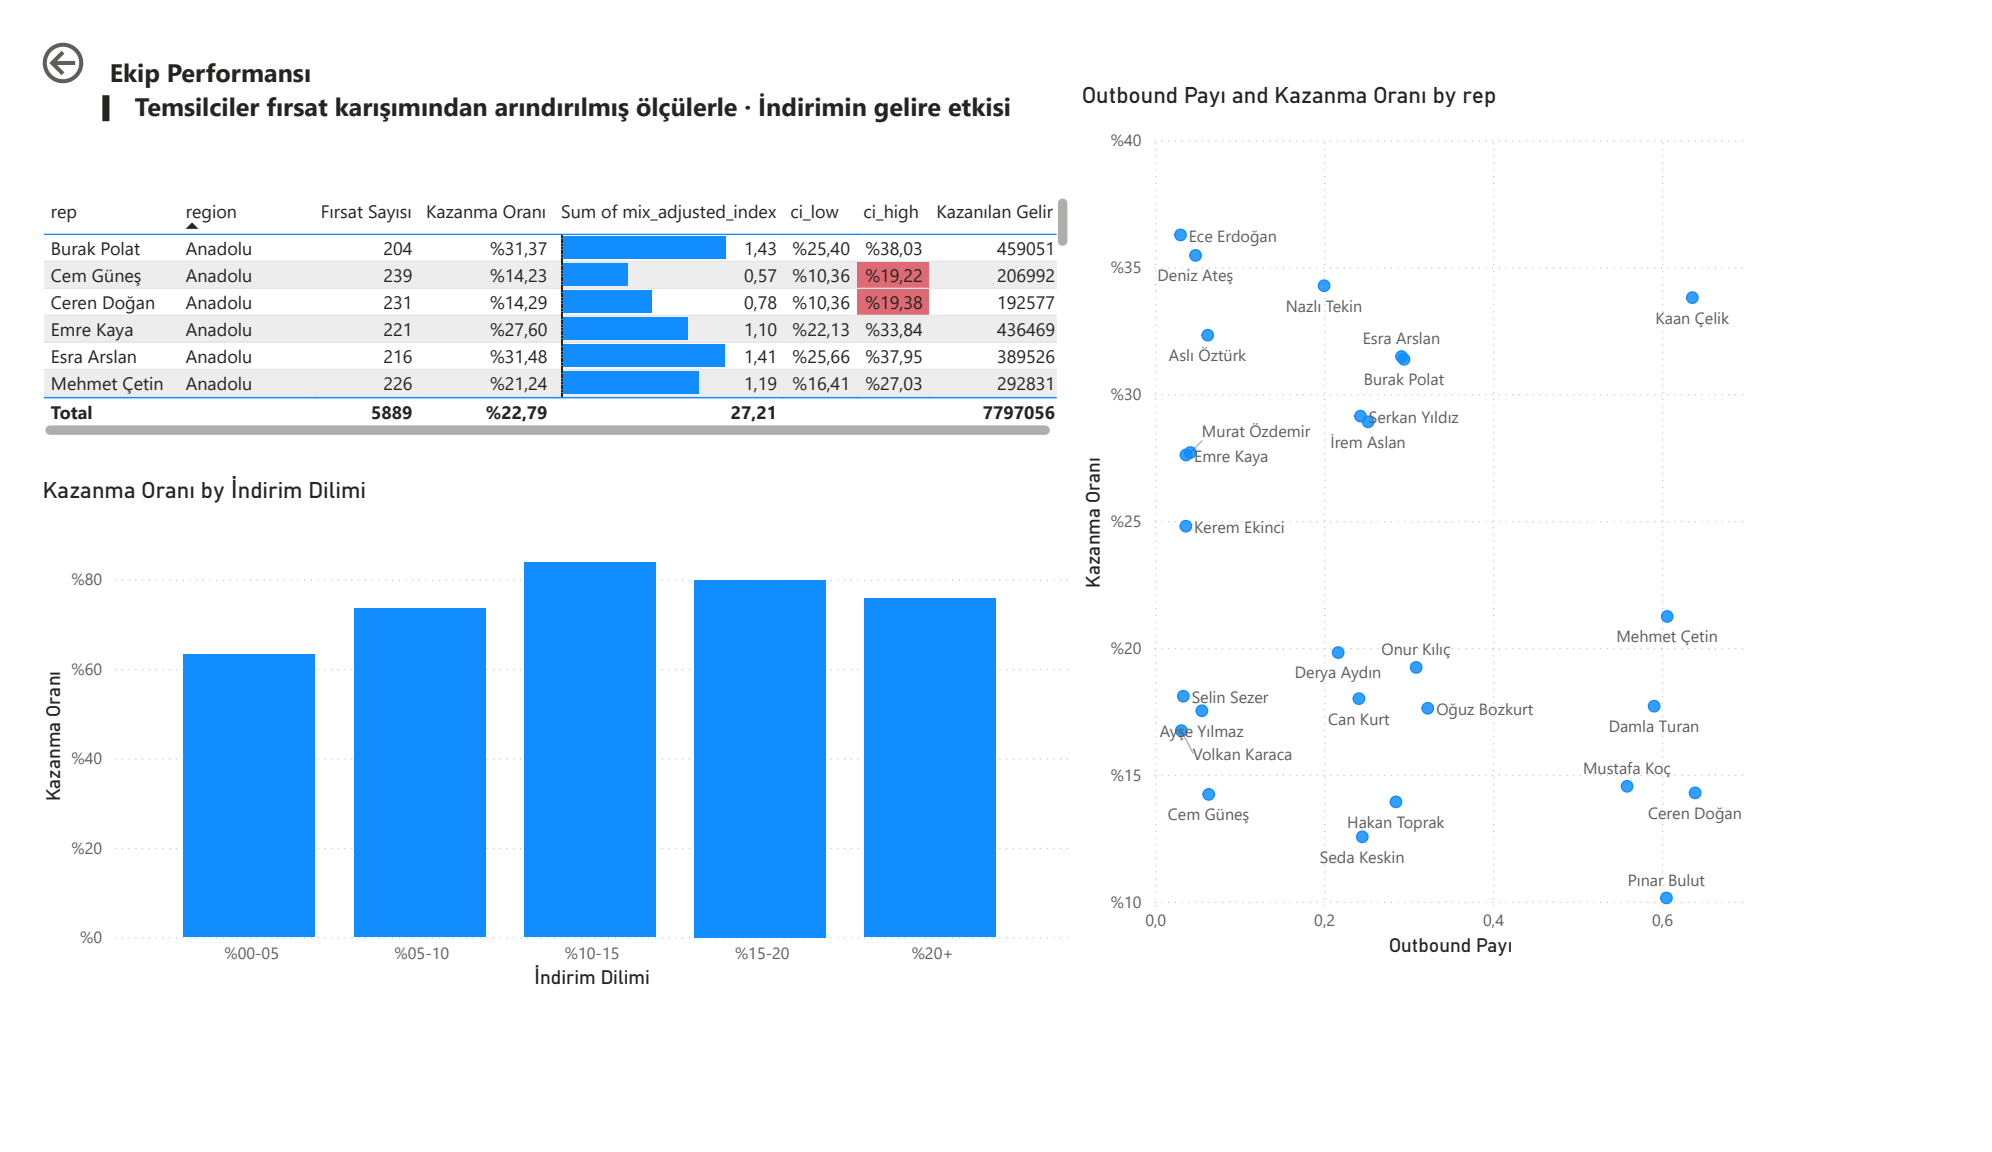

This screenshot's page, from the dashboard's own definition file:
{"tool":"powerbi","page":{"name":"Ekip Performansı","canvas":[1280,720],"ordinal":2},"visuals":[{"type":"textbox","box":[44.4,8.9,725.7,80],"z":0},{"type":"tableEx","fields":{"Values":["dim_rep.rep","dim_rep.region","ölçüler.Fırsat Sayısı","ölçüler.Kazanma Oranı","Sum(06_temsilci_performansi.mix_adjusted_index)","06_temsilci_performansi.ci_low","06_temsilci_performansi.ci_high","ölçüler.Kazanılan Gelir"]},"box":[0,114.4,770,186.7],"z":1000},{"type":"actionButton","box":[0,0,100,40],"z":2000},{"type":"scatterChart","fields":{"Category":["dim_rep.rep"],"X":["ölçüler.Outbound Payı"],"Y":["ölçüler.Kazanma Oranı"]},"box":[770,33.3,510,652.9],"z":3000},{"type":"clusteredColumnChart","fields":{"Y":["ölçüler.Kazanma Oranı"],"Category":["fact_opportunity.İndirim Dilimi"]},"box":[0,325.6,770,385],"z":4000}]}

Visuals, with their boxes in screenshot pixels (x1, y1, x2, y2), scaled from the page's 1280x720 canvas onto the 1992x1152 screenshot:
textbox: [left=69, top=14, right=1198, bottom=142]
tableEx - dim_rep.rep x dim_rep.region: [left=0, top=183, right=1198, bottom=482]
actionButton: [left=0, top=0, right=156, bottom=64]
scatterChart - dim_rep.rep x ölçüler.Outbound Payı: [left=1198, top=53, right=1991, bottom=1098]
clusteredColumnChart - ölçüler.Kazanma Oranı x fact_opportunity.İndirim Dilimi: [left=0, top=521, right=1198, bottom=1137]
